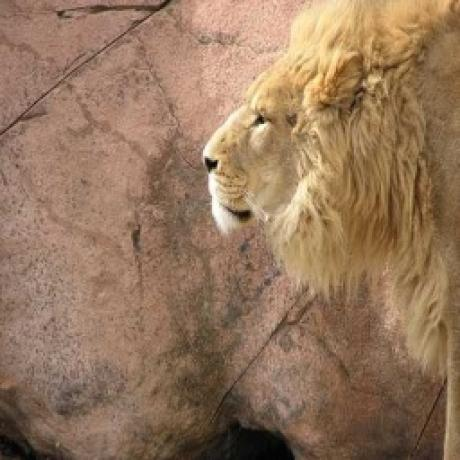Lion: (202, 0, 460, 460)
